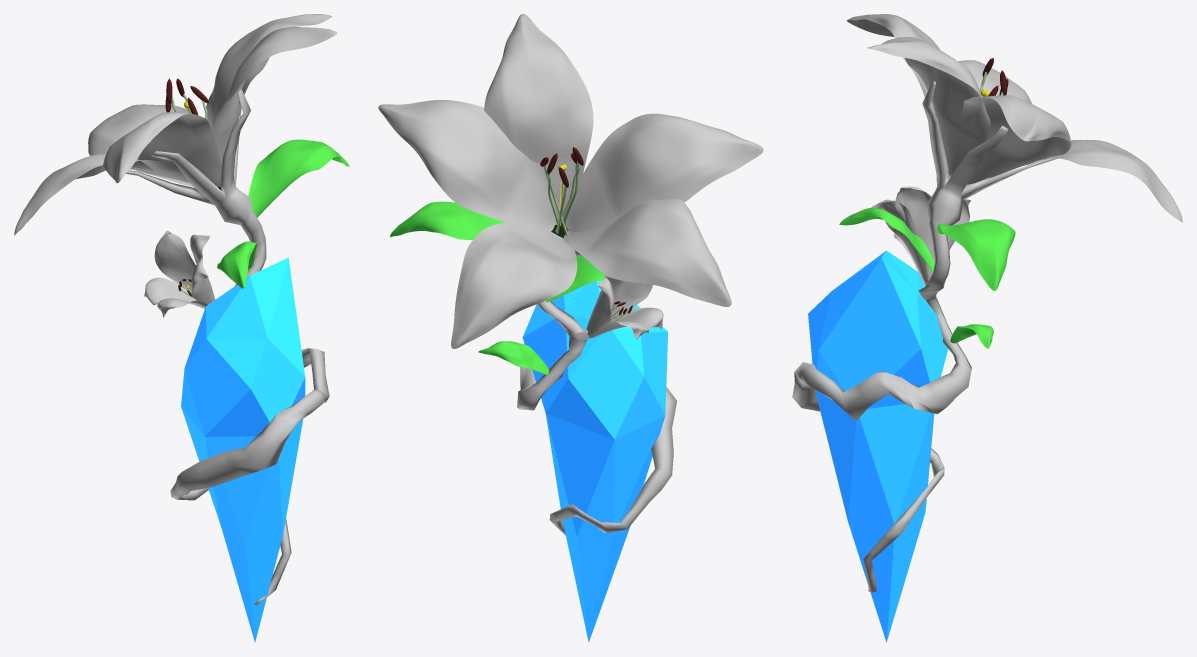
The picture shows the model from 3 angles, left to right: view 1: azimuth 30°, elevation 25°; view 2: azimuth 150°, elevation 25°; view 3: azimuth 270°, elevation 25°; orthographic projection. The views are drawn at different scales.
Parts seen in each view (by area): view 1: Gem.001_0; view 2: Gem.001_0; view 3: Gem.001_0.
Part boxes in pixels (x1,y1,x2,y2): Gem.001_0: (14,14,349,642); Gem.001_0: (378,14,763,642); Gem.001_0: (792,14,1182,642).
Size of the model in its own units: 0.3667 by 0.6241 by 0.3484.
